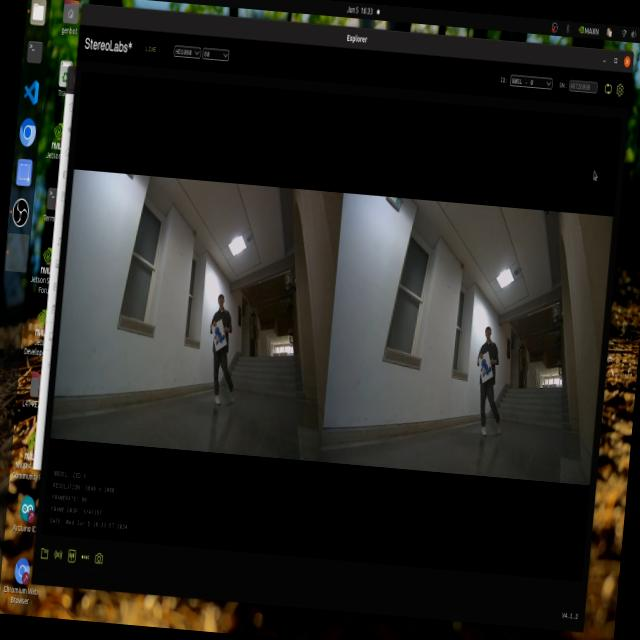blue: (208, 319, 230, 348), (476, 354, 495, 382)
